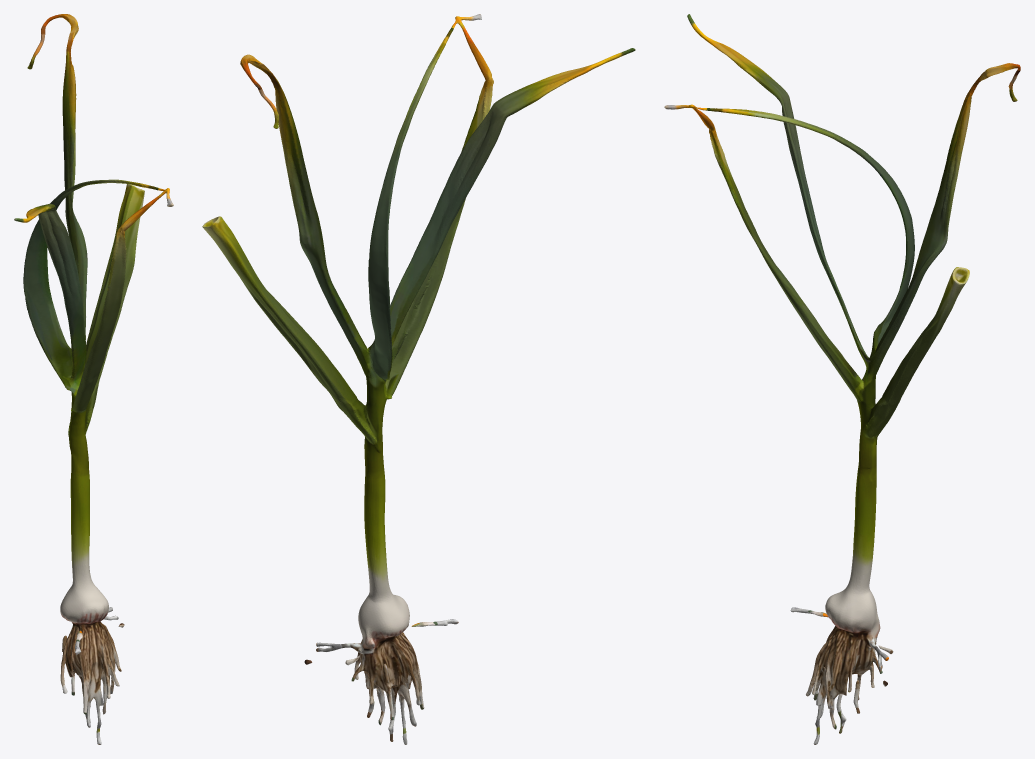
The model's file is garlic.glb.
3 renders of one model, left to right at view 1: azimuth 30°, elevation 25°; view 2: azimuth 150°, elevation 25°; view 3: azimuth 270°, elevation 25°, orthographic. The views are drawn at different scales.
Visible parts, largest first — view 1: tripo_node_ee355304-3590-4bd9-8c06-5b410e273b27; view 2: tripo_node_ee355304-3590-4bd9-8c06-5b410e273b27; view 3: tripo_node_ee355304-3590-4bd9-8c06-5b410e273b27.
Part boxes in pixels (x1=…): tripo_node_ee355304-3590-4bd9-8c06-5b410e273b27: x1=14, y1=14, x2=173, y2=744; tripo_node_ee355304-3590-4bd9-8c06-5b410e273b27: x1=202, y1=14, x2=635, y2=744; tripo_node_ee355304-3590-4bd9-8c06-5b410e273b27: x1=664, y1=14, x2=1020, y2=744.
Bounding box in the file's own units: 0.4078 × 1 × 0.4556.
Materials: 1 (1 with a texture image).
